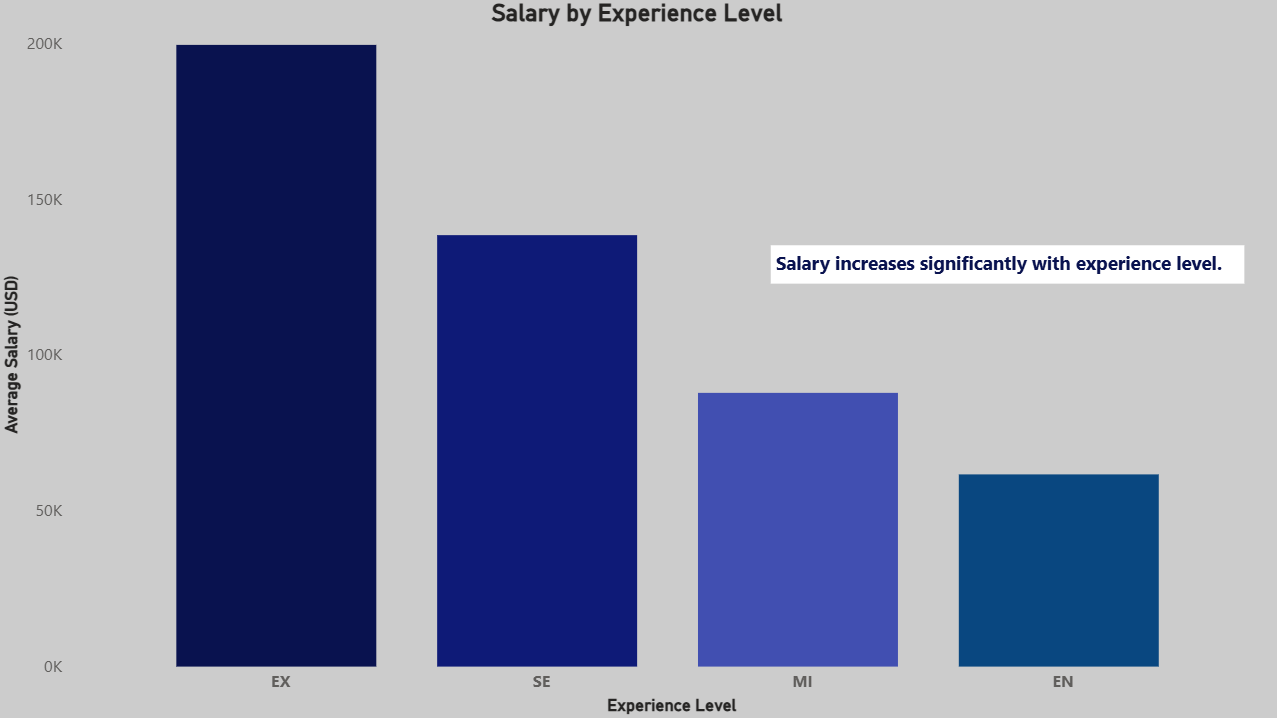

The page's visual inventory and layout, read from the dashboard file:
{"tool":"powerbi","page":{"name":"Experience Level Impact","canvas":[1280,720],"ordinal":1},"visuals":[{"type":"clusteredColumnChart","title":"Salary by Experience Level","fields":{"Category":["jobs_cleaned.experience_level"],"Y":["Avg(jobs_cleaned.salary_usd)"]},"box":[0,0,1280,720],"z":0},{"type":"textbox","box":[773.8,246.2,473.8,38.8],"z":1}]}

Visuals, with their boxes in screenshot pixels (x1, y1, x2, y2), scaled from the page's 1280x720 canvas onto the 1277x718 screenshot:
"Salary by Experience Level" clusteredColumnChart: 0:0:1276:717
textbox: 772:246:1245:284
